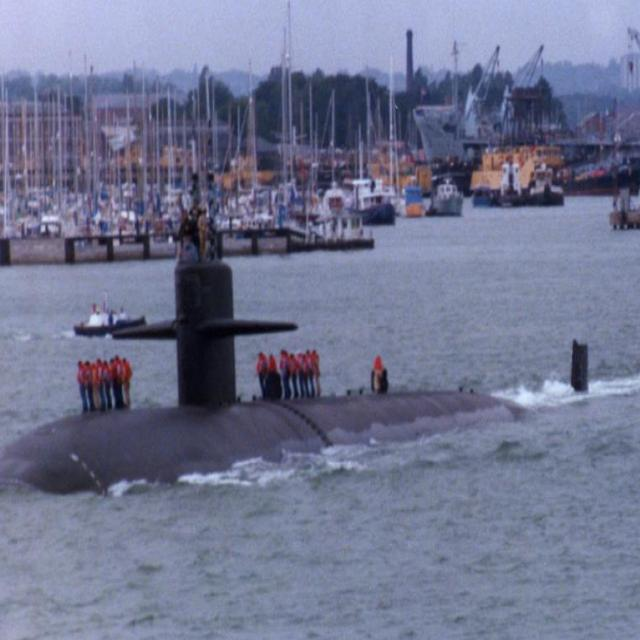submarine: (1, 260, 591, 504)
